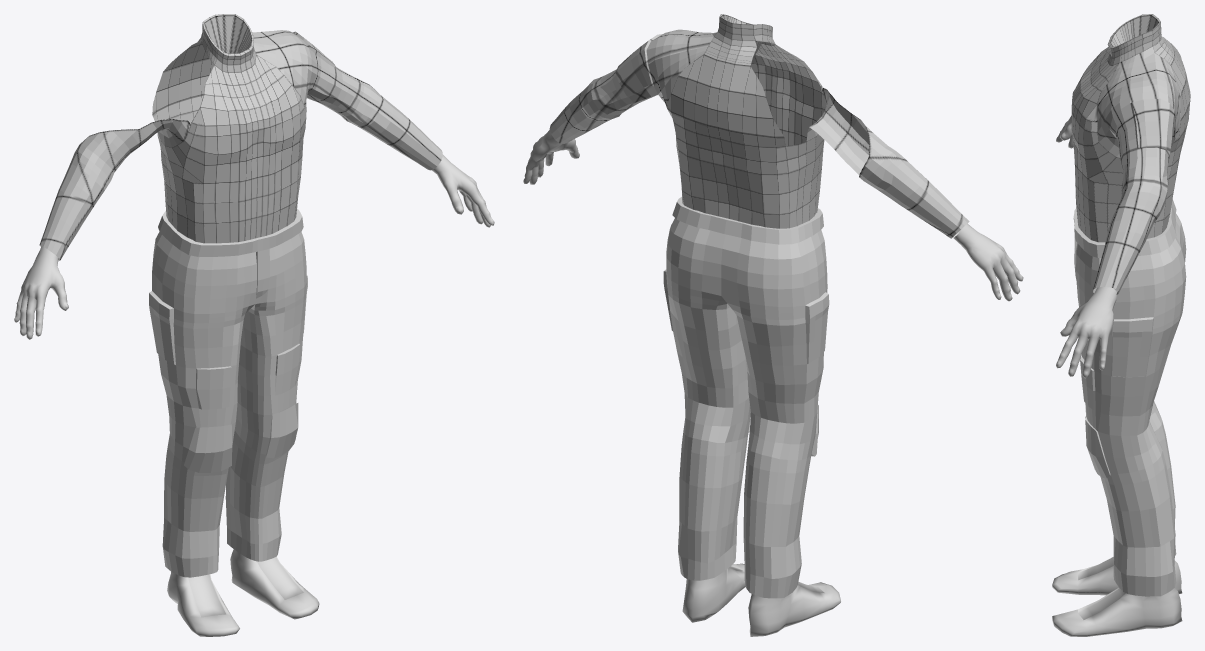
File: 3.15VER_Ud2emys.fbx
3 views of the same model, side by side, from view 1: azimuth 30°, elevation 25°; view 2: azimuth 150°, elevation 25°; view 3: azimuth 270°, elevation 25° (orthographic). The views are drawn at different scales.
Visible parts, largest first — view 1: Plane; view 2: Plane; view 3: Plane.
Boxes of the visible parts, x1,y1,x2,y2 form: Plane: [14, 14, 494, 636]; Plane: [523, 14, 1023, 636]; Plane: [1052, 14, 1190, 636].
Size of the model in its own units: 731 by 865 by 185.
Materials: 4 (3 with a texture image).
